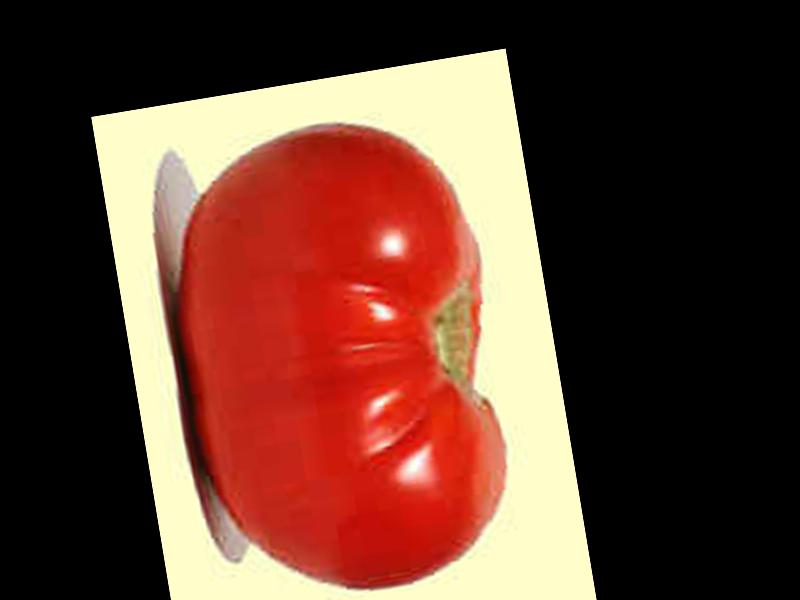Tomato: (153, 104, 531, 600)
